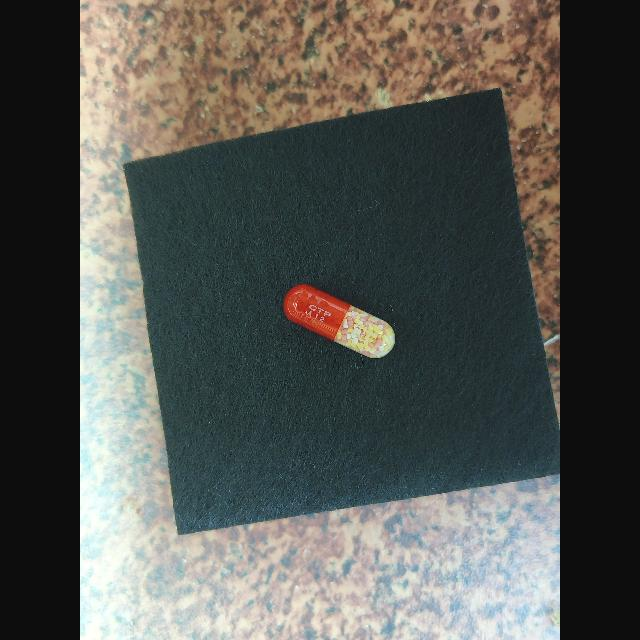Intact Capsule: (283, 284, 395, 358)
